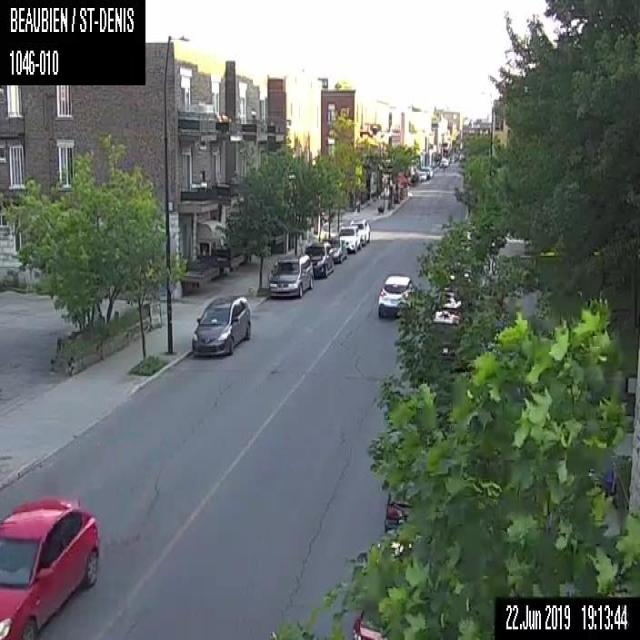vehicle: (0, 491, 101, 638), (190, 291, 251, 356), (266, 253, 313, 299), (375, 272, 413, 319), (351, 604, 389, 638), (384, 489, 407, 536), (304, 240, 333, 277), (336, 224, 360, 253), (324, 236, 346, 263), (349, 217, 369, 244), (436, 156, 449, 167), (420, 166, 430, 178), (416, 170, 426, 182), (428, 167, 433, 177)
